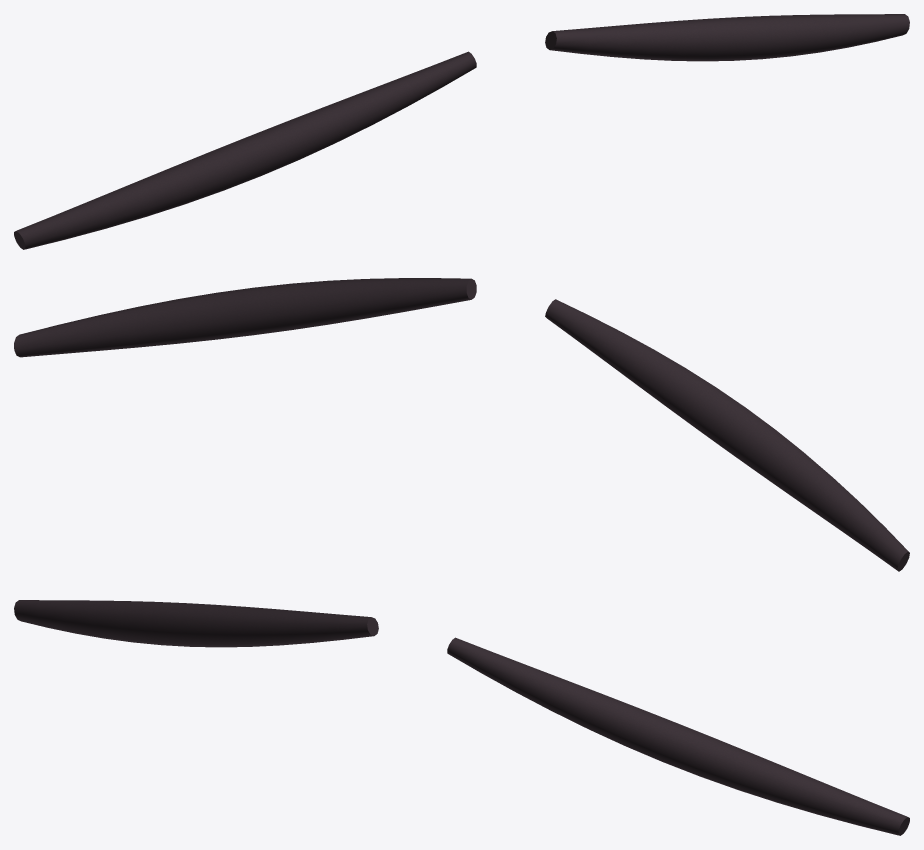
Rendered from facial_pencil_default.gltf.
3 renders of one model, top to bottom at view 1: azimuth 30°, elevation 25°; view 2: azimuth 150°, elevation 25°; view 3: azimuth 330°, elevation 25°, orthographic.
Parts seen in each view (by area): view 1: Pencil Moustache default; view 2: Pencil Moustache default; view 3: Pencil Moustache default.
Part boxes in pixels (box(x1,y1,x2,y2)): Pencil Moustache default: box(14, 14, 909, 249); Pencil Moustache default: box(14, 278, 909, 571); Pencil Moustache default: box(14, 600, 909, 835).
Size of the model in its own units: 0.1569 by 0.023 by 0.0184.
1 material, 1 textured.
